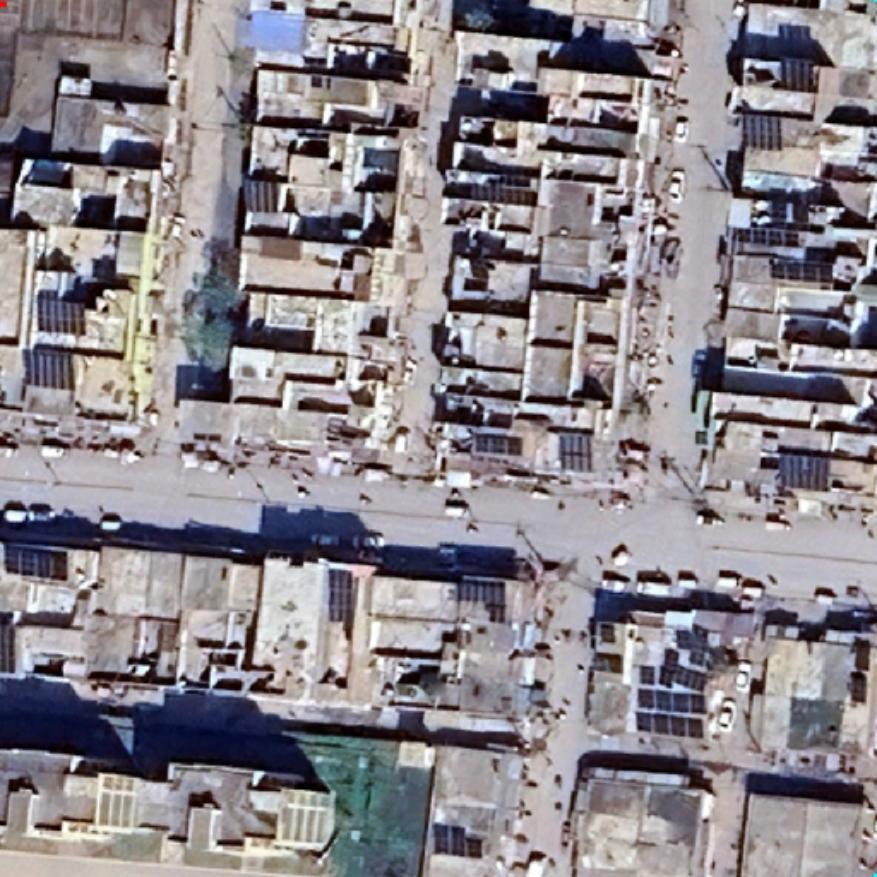Solarpanel: (627, 648, 715, 742), (634, 649, 712, 696), (449, 573, 513, 628), (1, 540, 73, 587), (20, 342, 80, 394), (465, 171, 543, 211), (774, 446, 836, 496), (31, 288, 90, 338), (428, 816, 490, 863), (766, 252, 840, 290), (324, 563, 360, 629), (550, 426, 597, 476), (736, 108, 786, 154), (774, 52, 822, 96), (468, 428, 526, 462), (240, 175, 284, 216), (0, 616, 18, 676), (593, 618, 619, 646)
